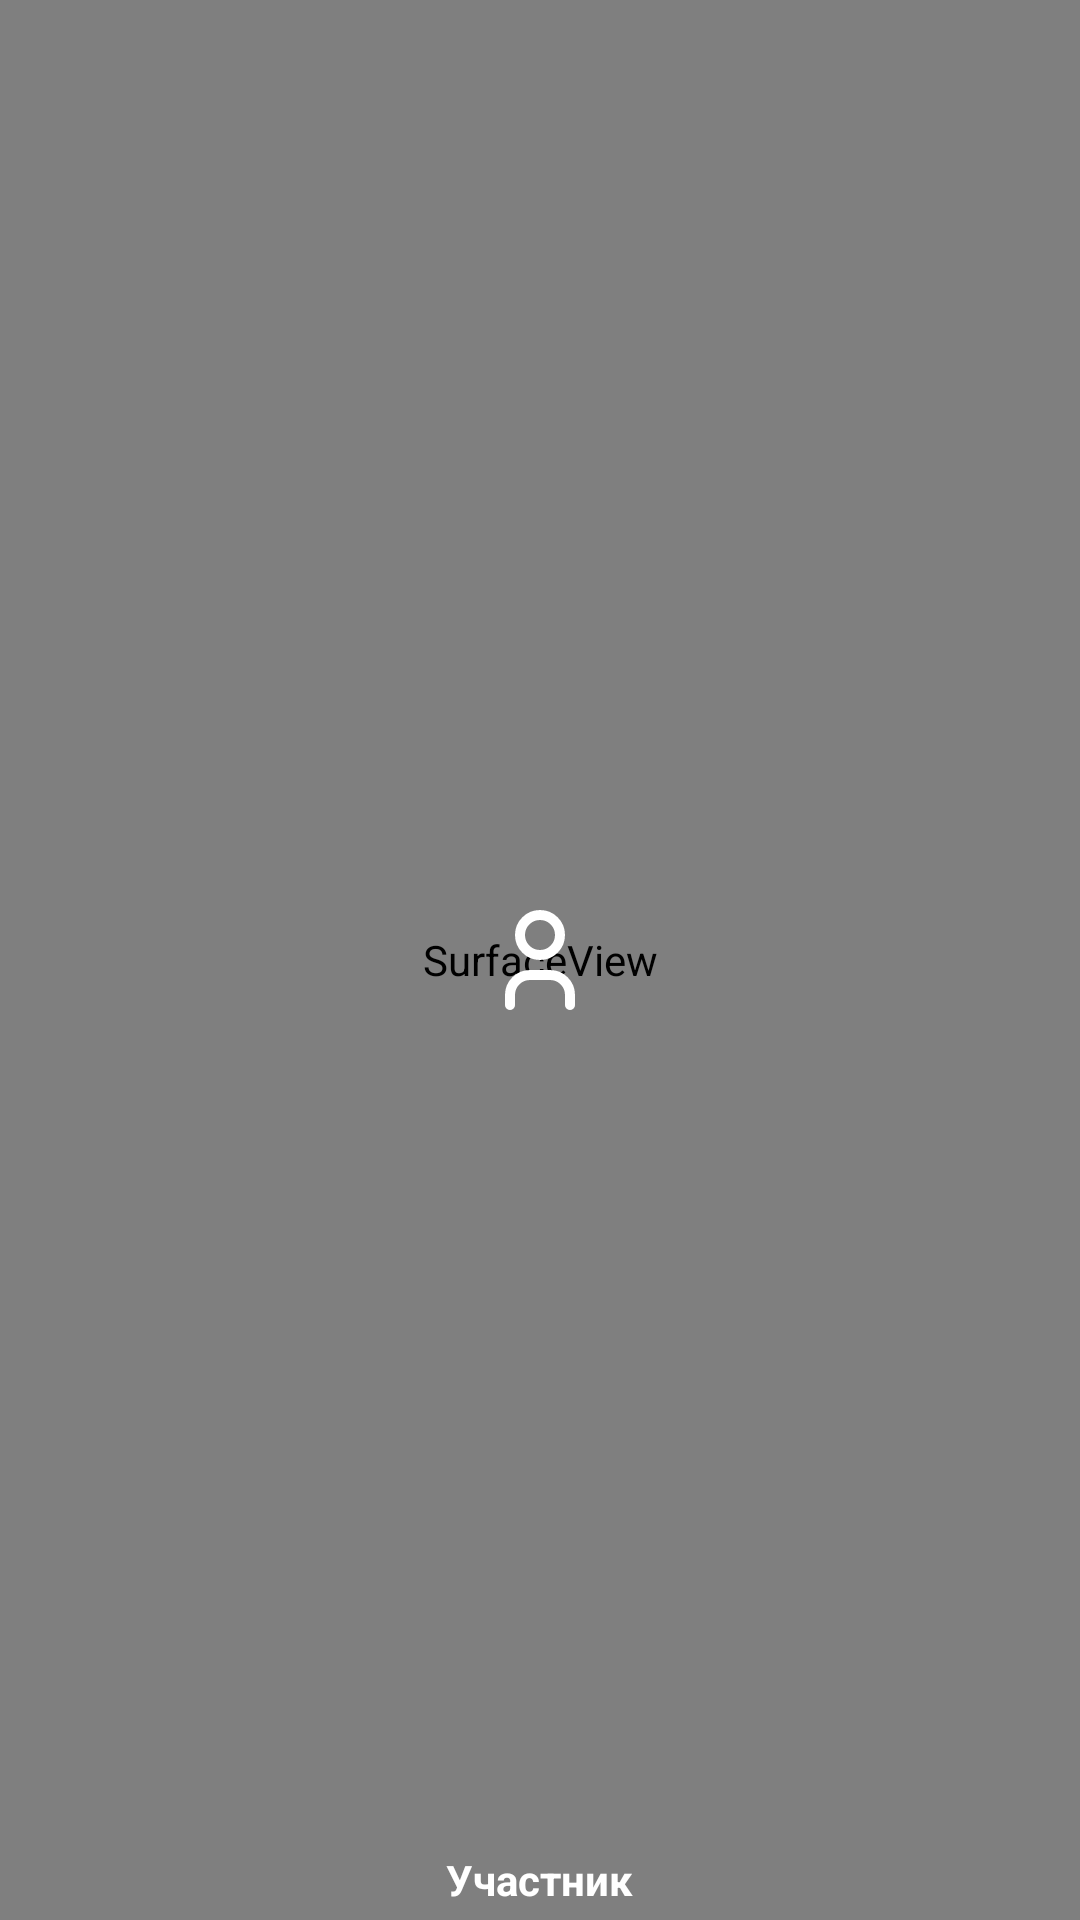

Where icons sit on this 1080×1920 app screen, as (x1, y1, x2, y2):
iconstack io user: (486, 910, 600, 1010)
